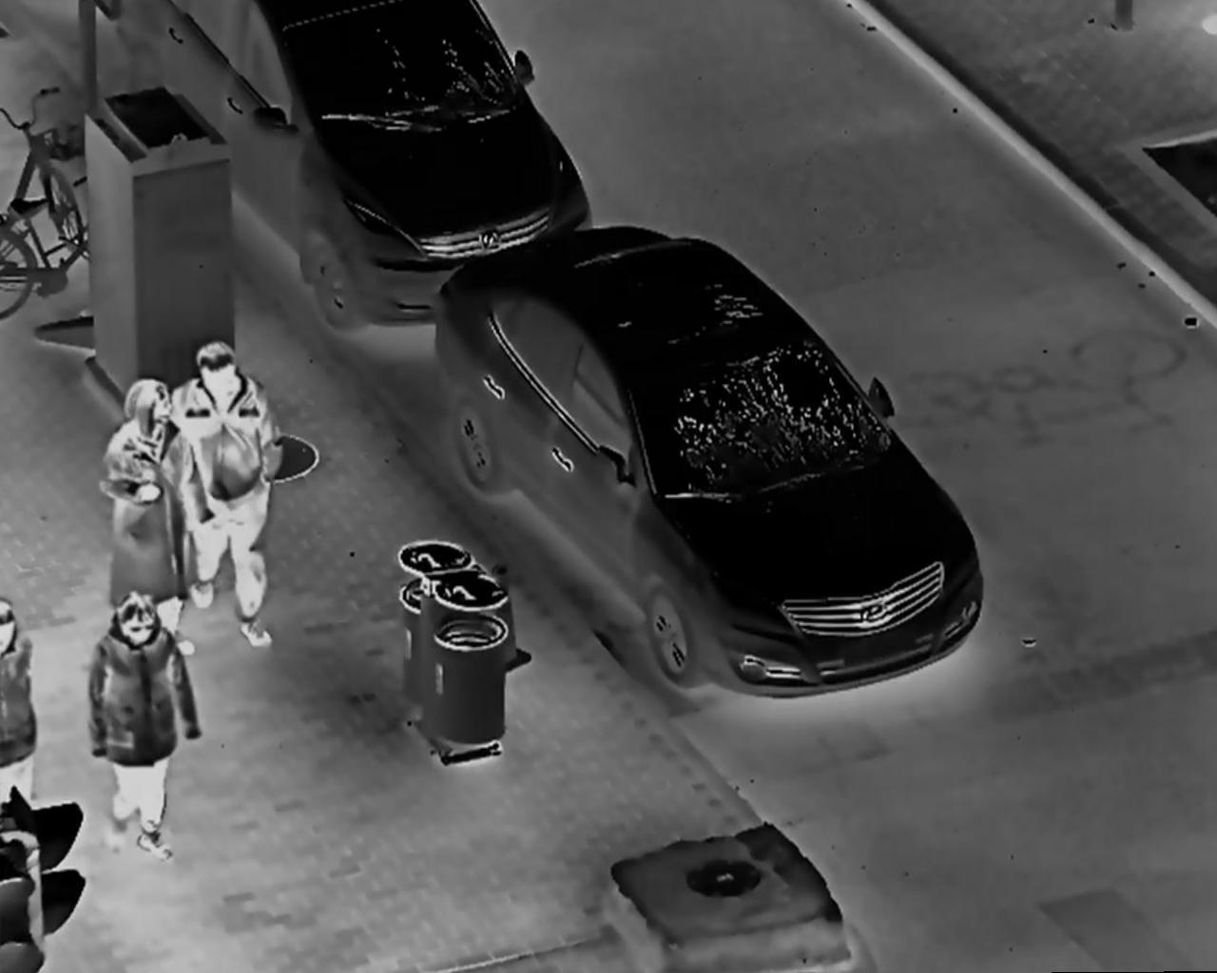person: (165, 341, 294, 658), (96, 374, 208, 668), (90, 583, 203, 873)
